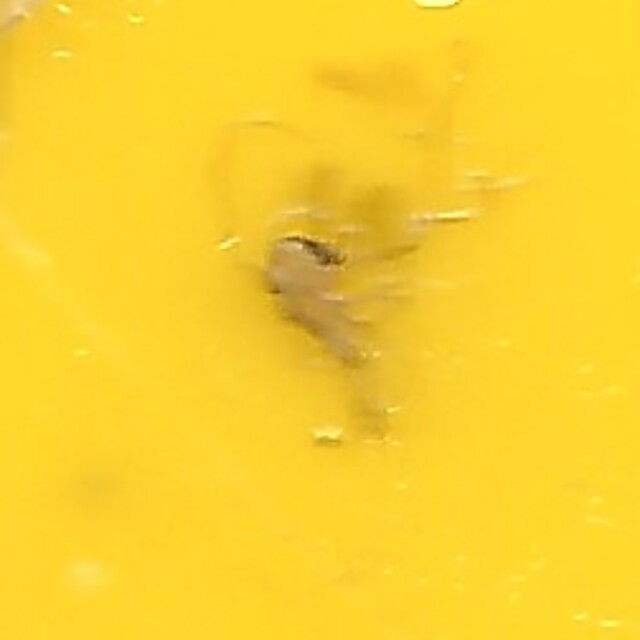Nematocera: (254, 222, 386, 418)
